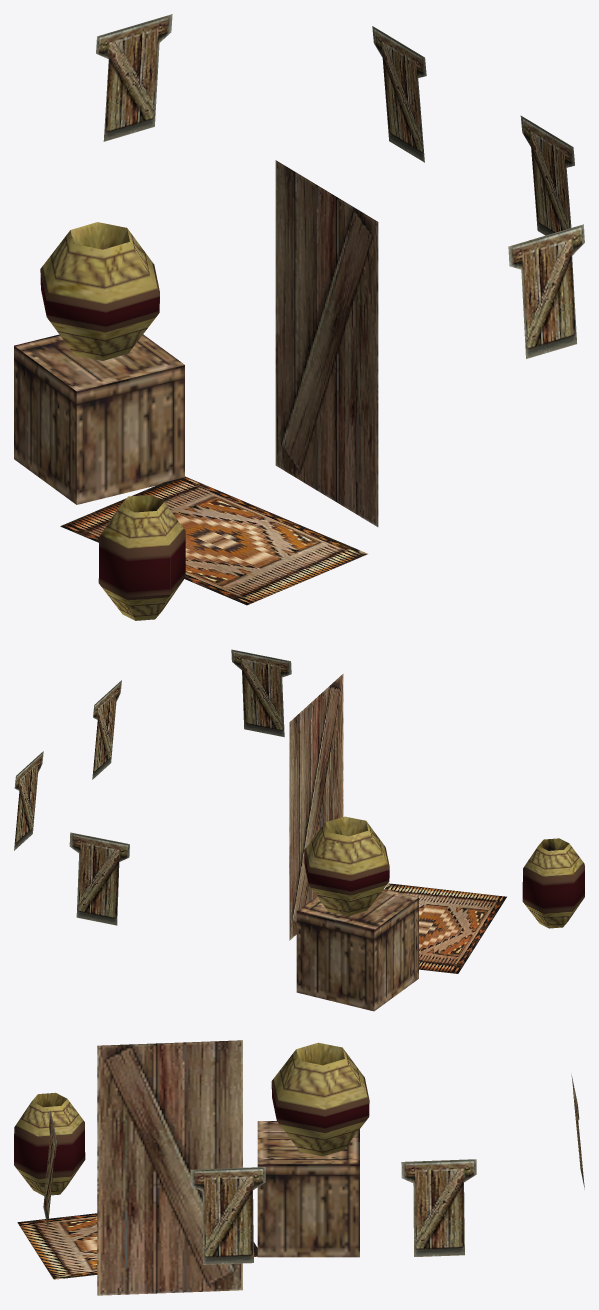
File: iber_house_c_1.dae
3 views of the same model, one above another, from view 1: azimuth 30°, elevation 25°; view 2: azimuth 150°, elevation 25°; view 3: azimuth 270°, elevation 25° (orthographic). The views are drawn at different scales.
Visible parts, largest first — view 1: GeoSphere04; view 2: GeoSphere04; view 3: GeoSphere04.
Boxes of the visible parts, x1,y1,x2,y2 form: GeoSphere04: (14,14,584,620); GeoSphere04: (14,649,584,1011); GeoSphere04: (14,1040,584,1295).
Bounding box in the file's own units: 7.75 × 8.35 × 4.04.
